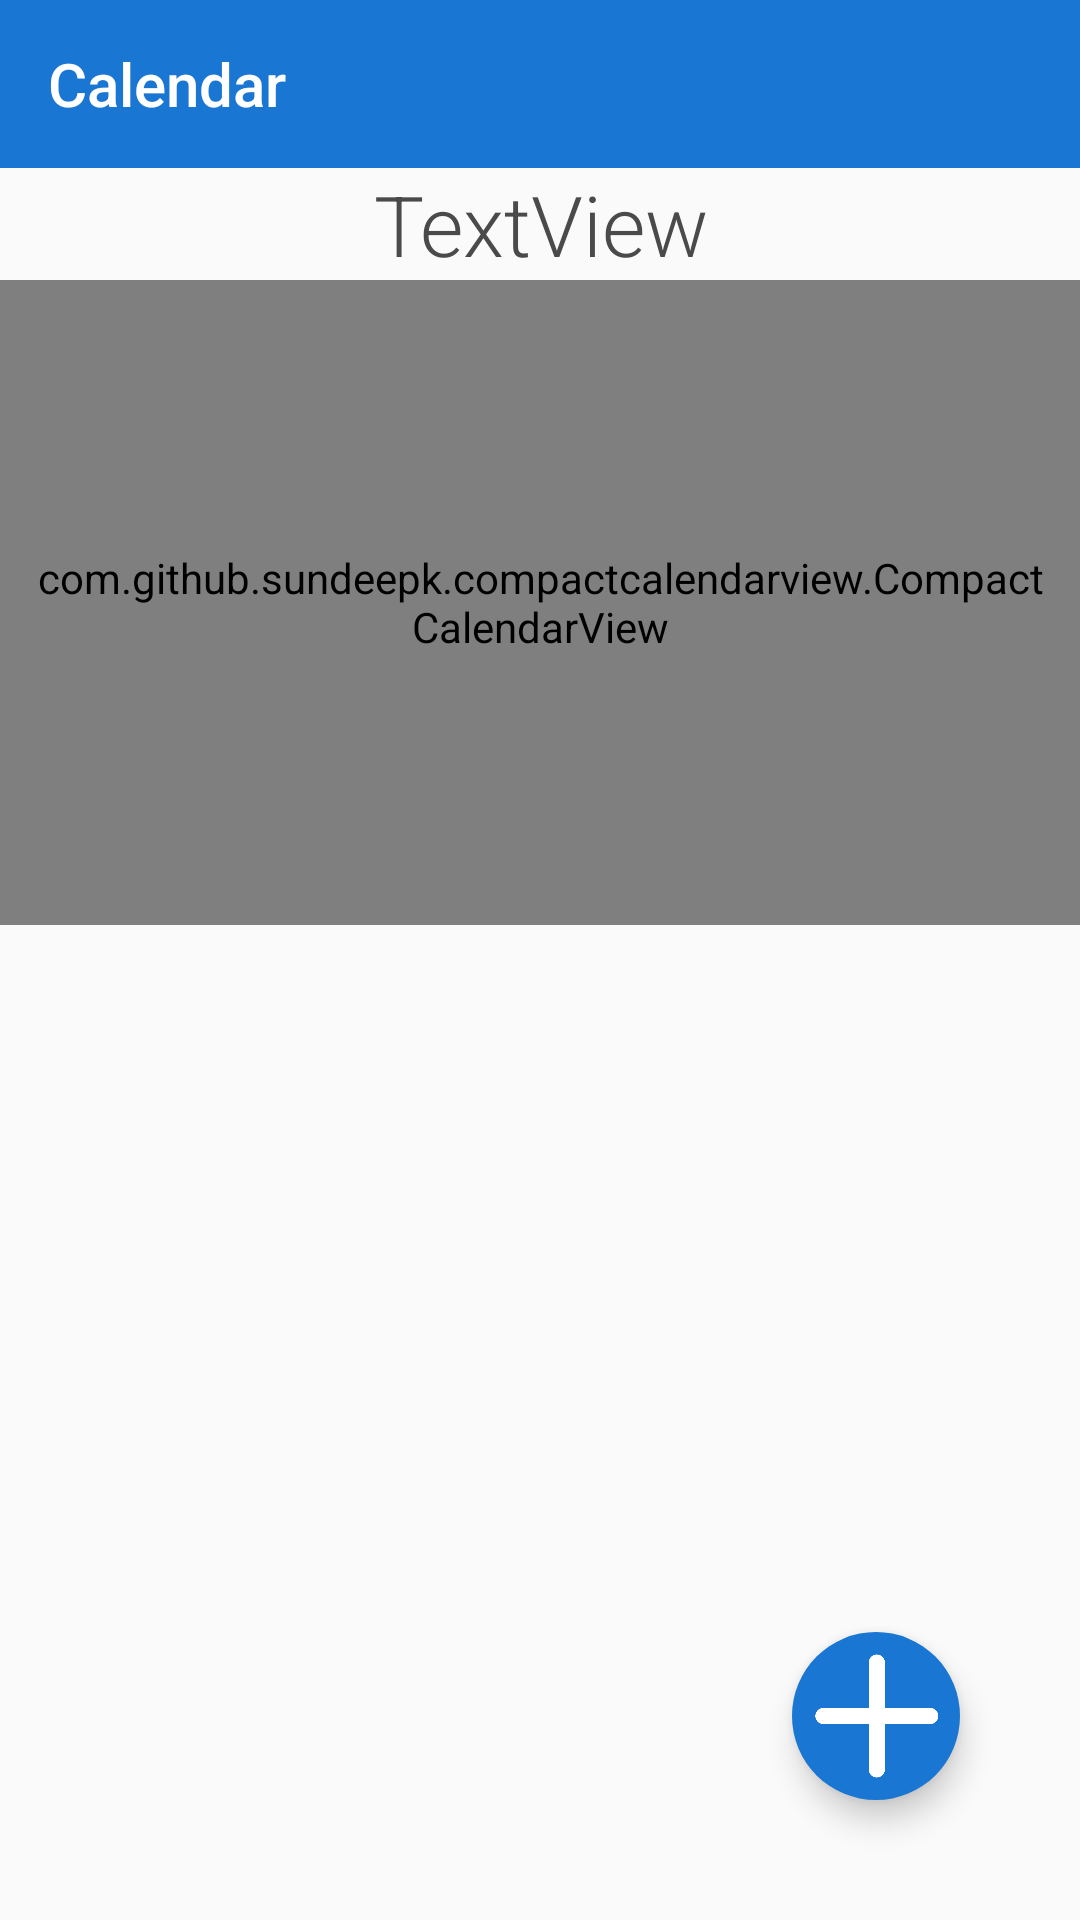

Screen size 1080 x 1920. Icon name, then its box in pixels as Rect(x1, y1, x2, y2):
plus: Rect(792, 1632, 960, 1800)
